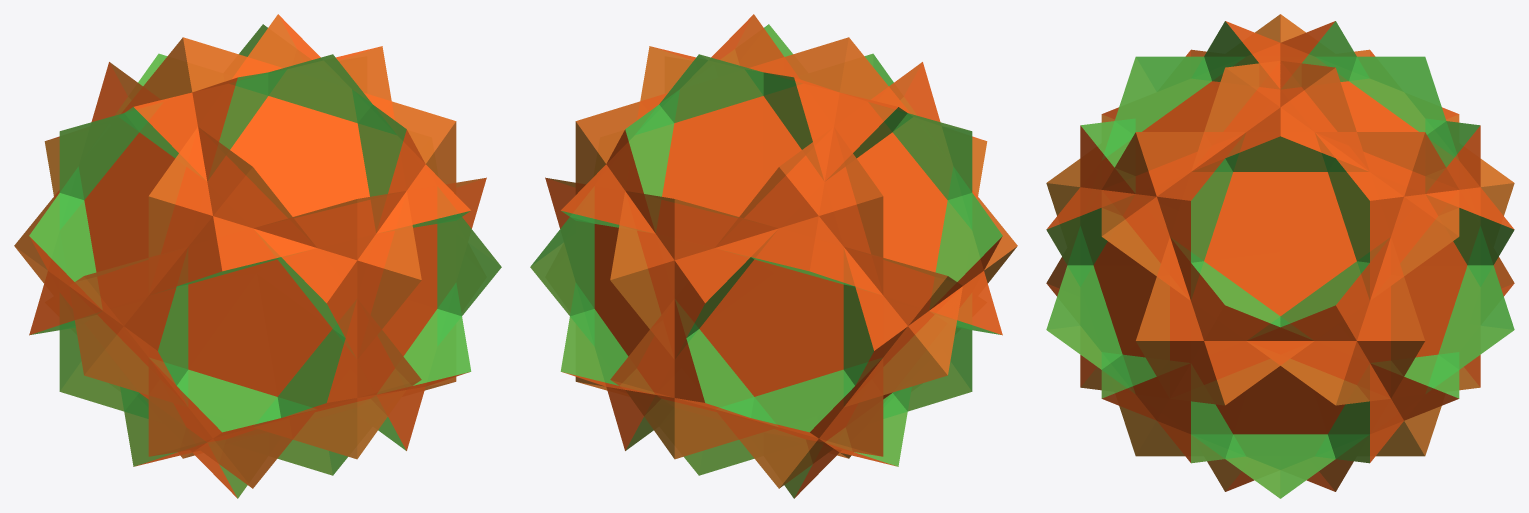
File: SmallStellatedTruncatedDodecahedron.obj
The picture shows the model from 3 angles, left to right: view 1: azimuth 30°, elevation 25°; view 2: azimuth 150°, elevation 25°; view 3: azimuth 270°, elevation 25°; orthographic projection.
Bounding box in the file's own units: 1.62 × 1.62 × 1.62.
